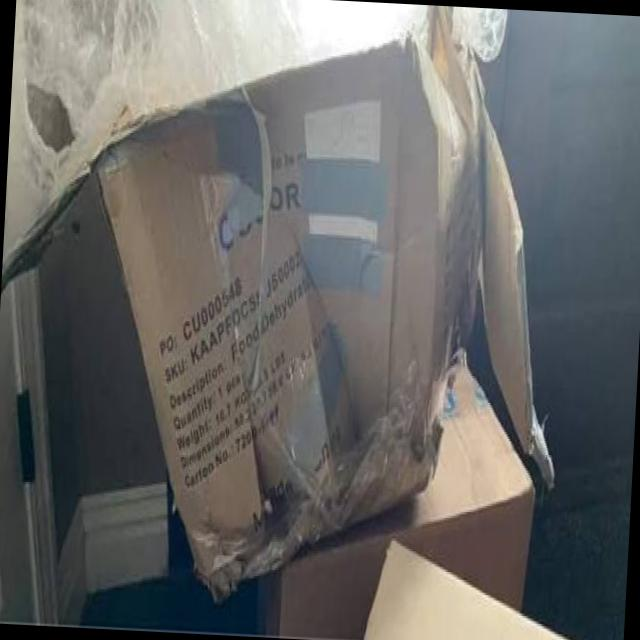package_damage: (119, 7, 496, 614)
